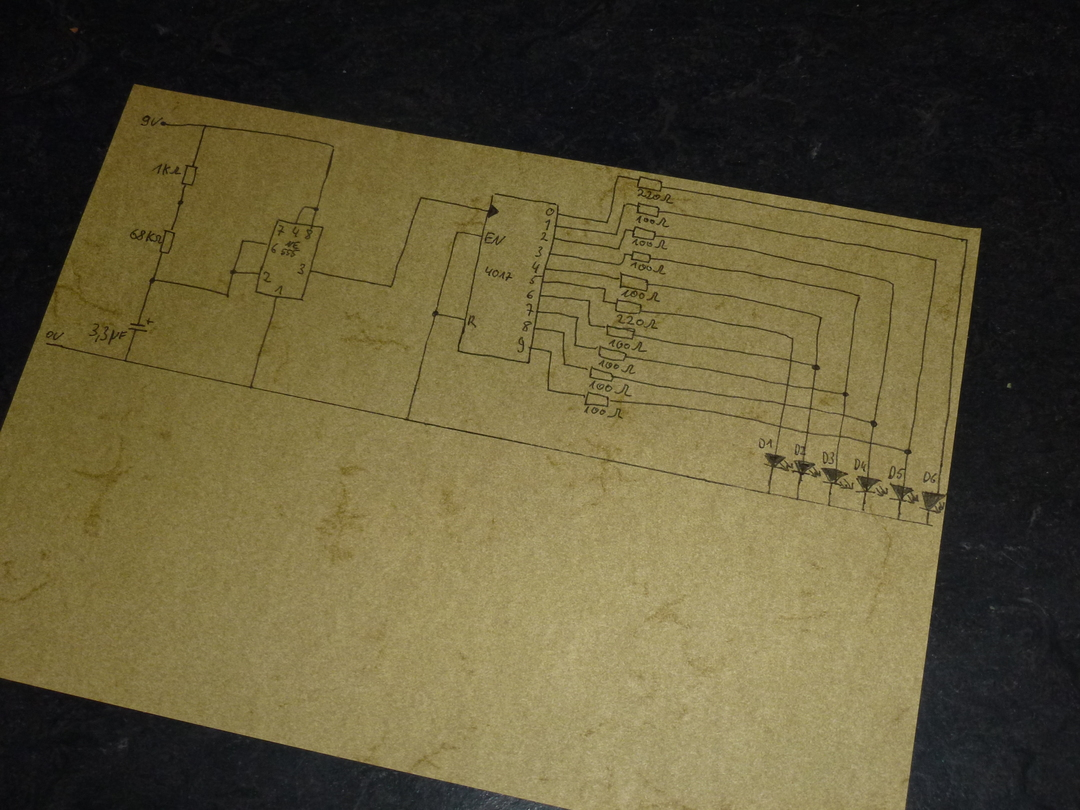capacitor.polarized: (127, 317, 154, 333)
crossover: (786, 355, 796, 365), (804, 428, 812, 437), (807, 404, 815, 413), (784, 380, 791, 390), (867, 439, 875, 447), (840, 411, 848, 419), (809, 384, 817, 392), (781, 400, 788, 409), (777, 423, 784, 431), (837, 433, 843, 440)
diode.light_emitting: (820, 467, 854, 491), (855, 475, 888, 498), (889, 482, 920, 505), (918, 490, 946, 515), (763, 452, 793, 473), (791, 459, 822, 479)
integrated_circuit: (457, 192, 559, 364)
integrated_cricuit.ne555: (254, 219, 324, 301)
junction: (810, 361, 822, 373), (430, 309, 441, 319), (869, 418, 879, 428), (561, 359, 570, 370), (148, 276, 158, 285), (228, 267, 238, 276), (852, 293, 862, 302), (417, 194, 426, 203), (815, 315, 825, 323), (841, 390, 850, 398), (904, 447, 912, 456), (924, 521, 933, 529), (224, 291, 232, 300), (888, 281, 897, 289), (621, 201, 630, 209), (614, 172, 623, 180), (544, 385, 552, 394), (859, 508, 867, 516), (403, 415, 411, 423), (248, 383, 256, 391), (122, 357, 130, 365), (387, 282, 395, 290), (329, 144, 337, 152), (788, 335, 796, 343), (586, 321, 594, 329), (825, 502, 833, 509), (765, 490, 773, 497), (313, 205, 320, 213), (454, 230, 461, 238), (932, 257, 940, 264), (963, 237, 971, 244), (572, 341, 579, 349), (895, 516, 902, 523), (794, 495, 801, 502), (301, 204, 308, 211), (615, 244, 622, 251), (586, 297, 593, 304), (548, 349, 555, 356), (622, 251, 628, 259), (601, 296, 607, 304), (202, 123, 208, 130), (613, 230, 619, 237), (623, 227, 629, 234), (602, 285, 608, 292), (574, 314, 580, 321), (561, 329, 567, 336), (240, 238, 246, 244), (604, 219, 610, 225), (618, 261, 623, 267)
resistor: (618, 270, 650, 293), (604, 323, 637, 341), (594, 344, 627, 362), (614, 298, 644, 316), (586, 365, 615, 383), (158, 228, 176, 255), (582, 391, 610, 408), (636, 175, 664, 192), (180, 163, 199, 187), (635, 201, 661, 218), (631, 225, 657, 241), (629, 250, 654, 265)
terminal: (159, 120, 168, 128), (43, 340, 51, 347)
text: (88, 322, 127, 346), (588, 380, 633, 398), (616, 313, 659, 330), (597, 359, 637, 375), (582, 406, 624, 421), (637, 188, 674, 205), (608, 338, 648, 353), (129, 228, 163, 245), (620, 289, 661, 303), (630, 261, 666, 276), (635, 215, 671, 229), (484, 265, 513, 282), (631, 238, 668, 251), (151, 162, 182, 176), (280, 239, 301, 259), (484, 231, 506, 246), (140, 114, 163, 127), (887, 465, 905, 481), (922, 470, 938, 485), (853, 457, 868, 473), (757, 437, 774, 451), (821, 450, 835, 465), (45, 330, 64, 341), (793, 442, 806, 458), (466, 314, 478, 329), (516, 336, 526, 354), (525, 302, 535, 317), (521, 320, 532, 333), (303, 228, 314, 241), (531, 260, 541, 274), (528, 275, 542, 285), (296, 262, 306, 276), (525, 289, 537, 300), (263, 271, 273, 284), (274, 284, 284, 297), (276, 224, 286, 237), (534, 245, 543, 258), (291, 225, 300, 238), (270, 242, 279, 254), (545, 207, 555, 217), (540, 231, 549, 242), (544, 219, 552, 231)
